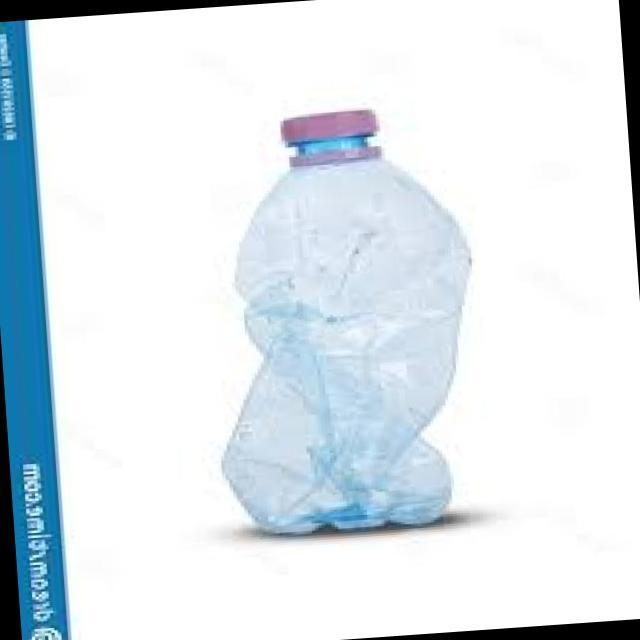defected: (168, 72, 496, 554)
